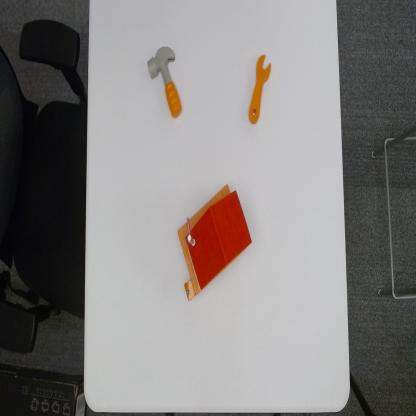Hammer: (147, 44, 184, 121)
House: (175, 180, 254, 304)
Screwdriver: (248, 53, 272, 126)
